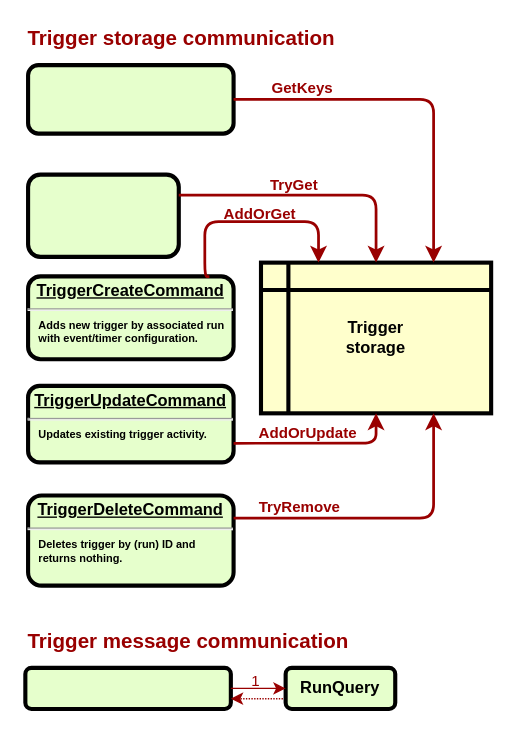
This 516x734 diagram has some shape labels left out. The shapes that lost their labels are listed below. From the top down, each one's centre as x and y in pixels, then its label:
the point at 130,98: TriggerReferencesQuery Queries and returns all ( run) IDs.
the point at 102,215: TriggerQuery Queries and returns an trigger by (run) ID.
the point at 127,687: TriggerCreateCommand
